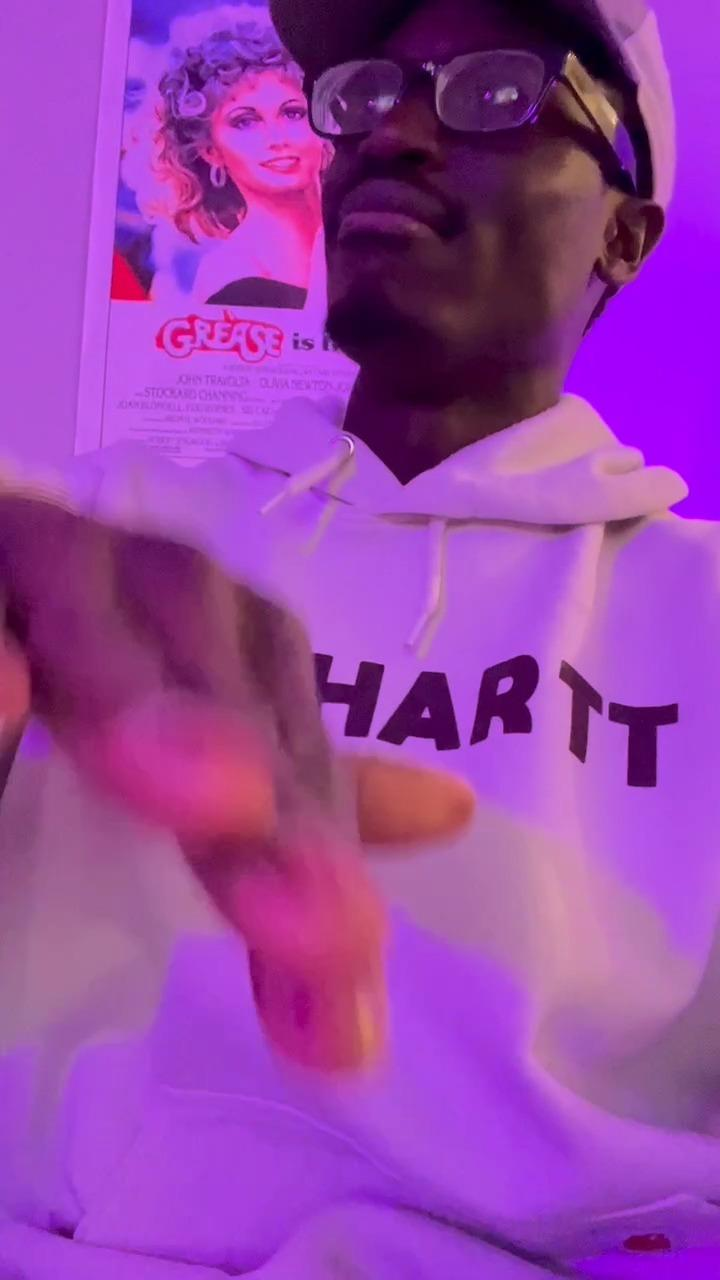Paper: (0, 492, 470, 1091)
